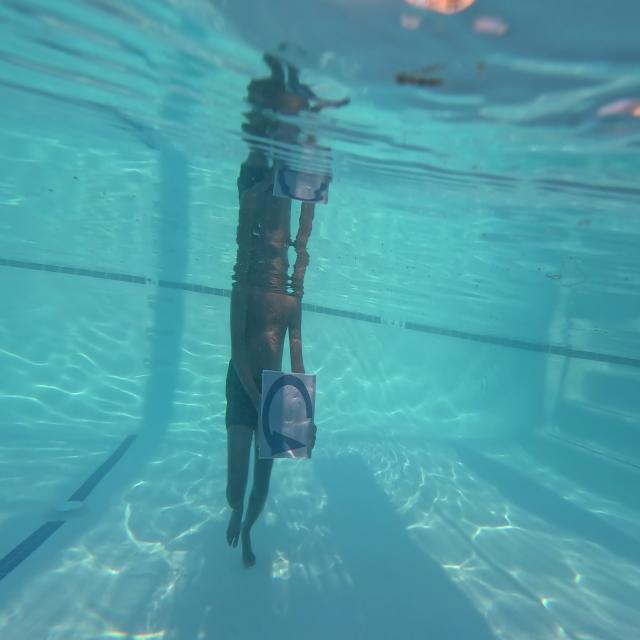blue_side: (260, 368, 314, 462)
